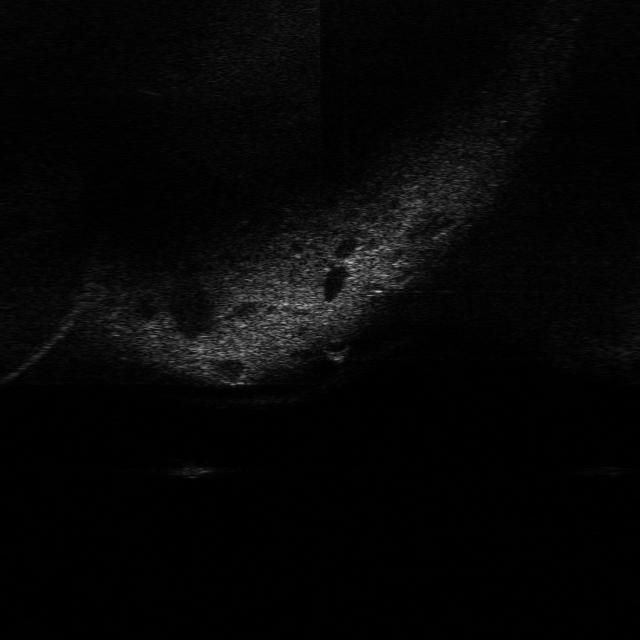ball: (316, 329, 354, 363)
cube: (164, 457, 216, 482)
